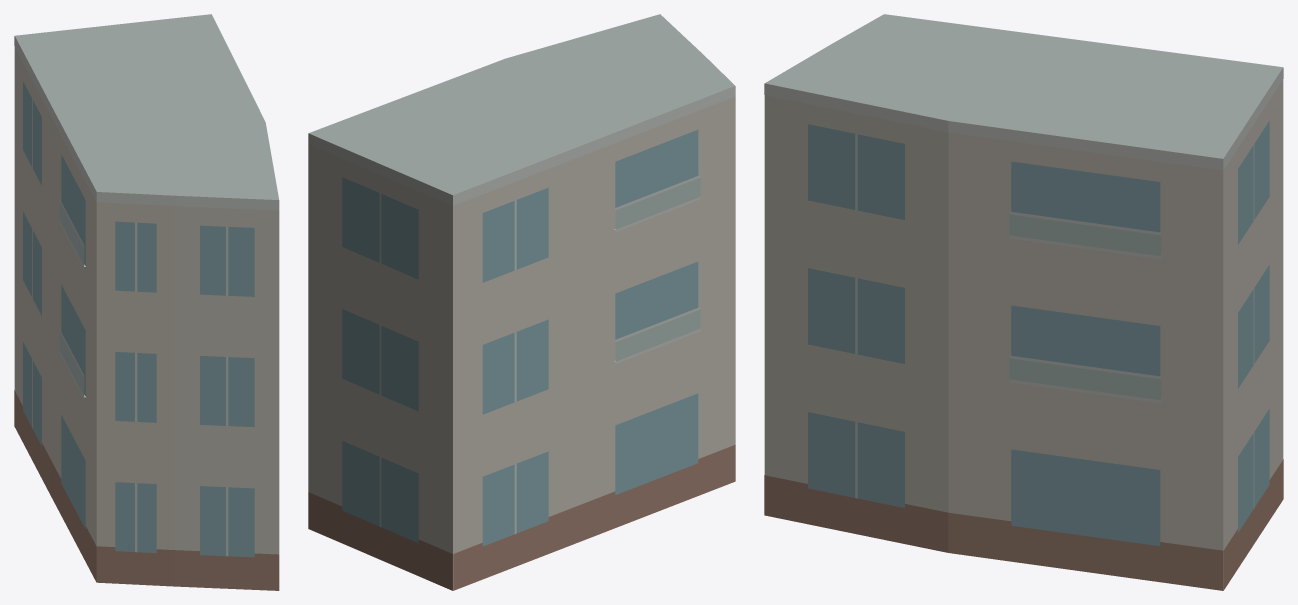
Rendered from survey-upis-32805214.glb.
3 renders of one model, left to right at view 1: azimuth 30°, elevation 25°; view 2: azimuth 150°, elevation 25°; view 3: azimuth 270°, elevation 25°, orthographic. The views are drawn at different scales.
Parts seen in each view (by area): view 1: survey-upis-32805214.tmp; view 2: survey-upis-32805214.tmp; view 3: survey-upis-32805214.tmp.
Part boxes in pixels (x1,y1,x2,y2): survey-upis-32805214.tmp: (14, 14, 279, 590); survey-upis-32805214.tmp: (308, 14, 735, 590); survey-upis-32805214.tmp: (764, 14, 1283, 590).
Size of the model in its own units: 6.59 by 9.15 by 9.97.
